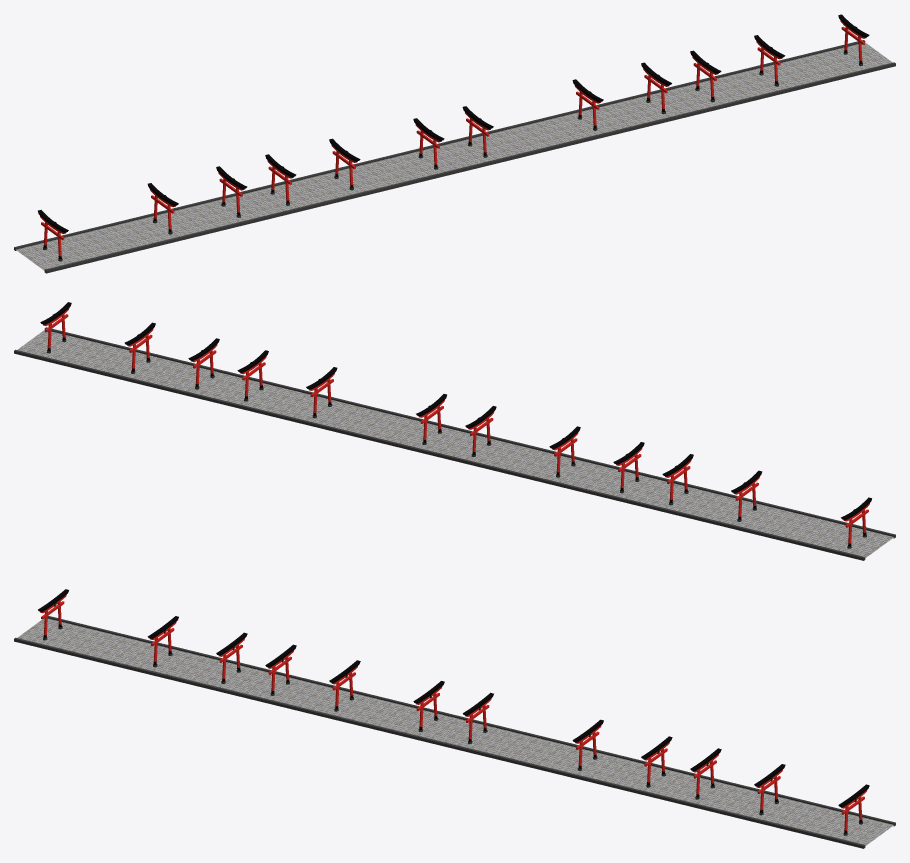
The model's file is JijaTorii3.fbx.
3 views of the same model, one above another, from view 1: azimuth 30°, elevation 25°; view 2: azimuth 150°, elevation 25°; view 3: azimuth 330°, elevation 25° (orthographic).
Visible parts, largest first — view 1: Cube.001, Cube.004; view 2: Cube.001, Cube.004; view 3: Cube.004, Cube.001.
Part boxes in pixels (x1,y1,x2,y2): Cube.001: (14,118,470,273); Cube.004: (439,14,895,169); Cube.001: (439,406,895,560); Cube.004: (14,302,470,457); Cube.004: (439,692,895,848); Cube.001: (14,589,468,744).
Bounding box in the file's own units: 64000 × 2569 × 4200.
